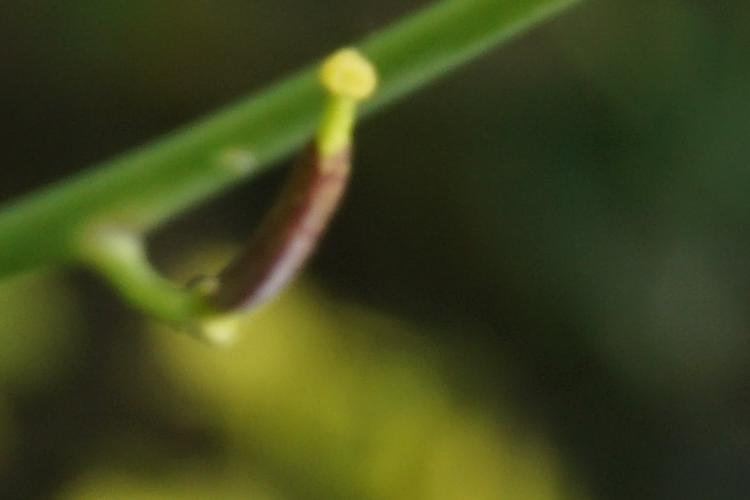pod: (210, 47, 403, 334)
